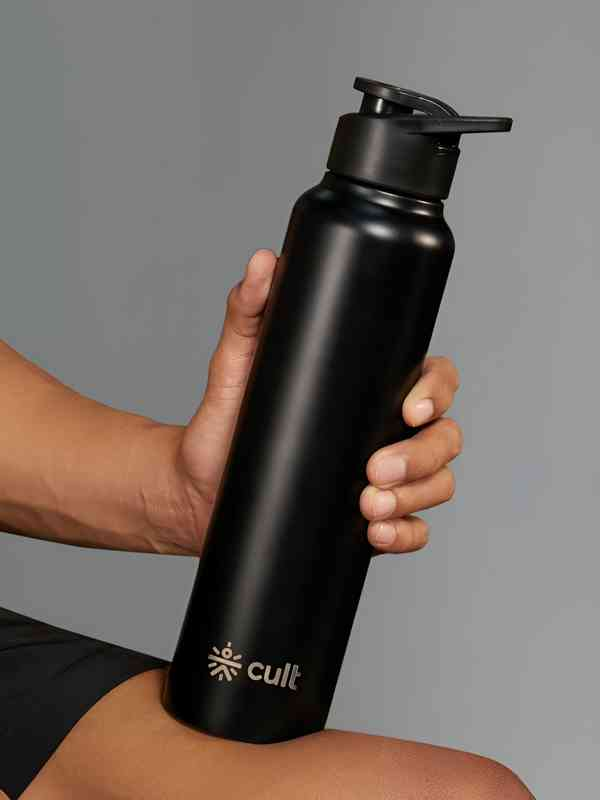bottles: (164, 77, 509, 743)
